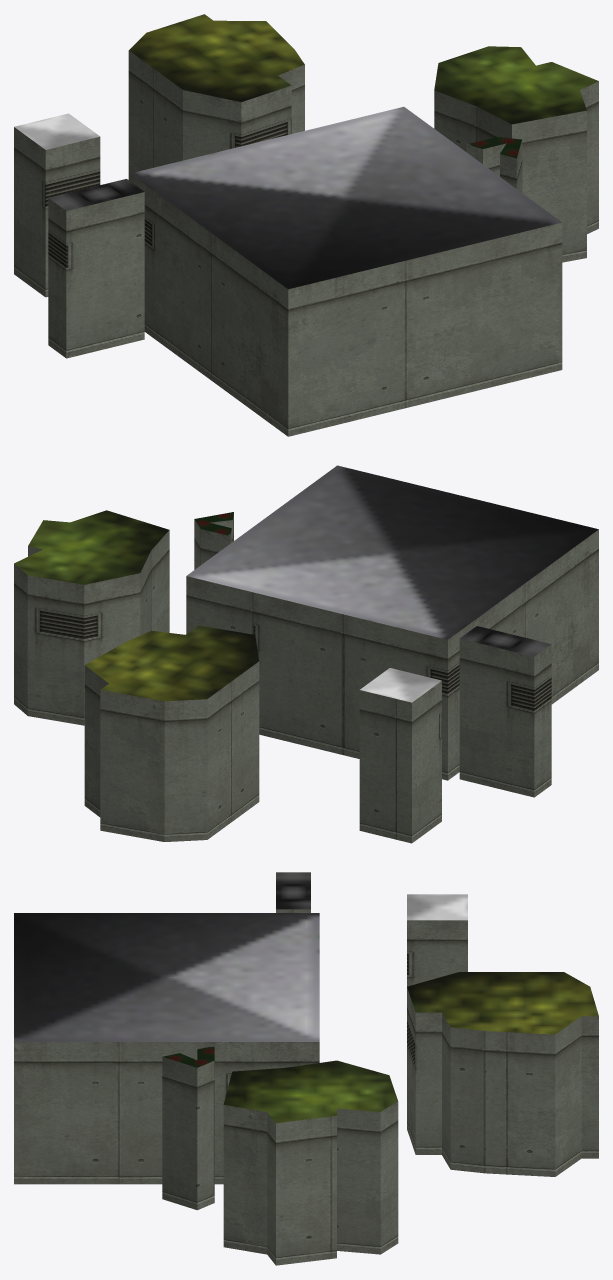
Rendered from BuildingSystem-02-Intermediate-02-Medium-1-17.glb.
The picture shows the model from 3 angles, top to bottom: view 1: azimuth 30°, elevation 25°; view 2: azimuth 150°, elevation 25°; view 3: azimuth 270°, elevation 25°; orthographic projection. The views are drawn at different scales.
Parts seen in each view (by area): view 1: buildings/saxarba/SMV_Buildings/BuildingSystem-02-Intermedia; view 2: buildings/saxarba/SMV_Buildings/BuildingSystem-02-Intermedia; view 3: buildings/saxarba/SMV_Buildings/BuildingSystem-02-Intermedia.
Part boxes in pixels (x1,y1,x2,y2): buildings/saxarba/SMV_Buildings/BuildingSystem-02-Intermedia: (14, 14, 598, 436); buildings/saxarba/SMV_Buildings/BuildingSystem-02-Intermedia: (14, 465, 598, 843); buildings/saxarba/SMV_Buildings/BuildingSystem-02-Intermedia: (14, 872, 598, 1265).
Size of the model in its own units: 68 by 18 by 67.
